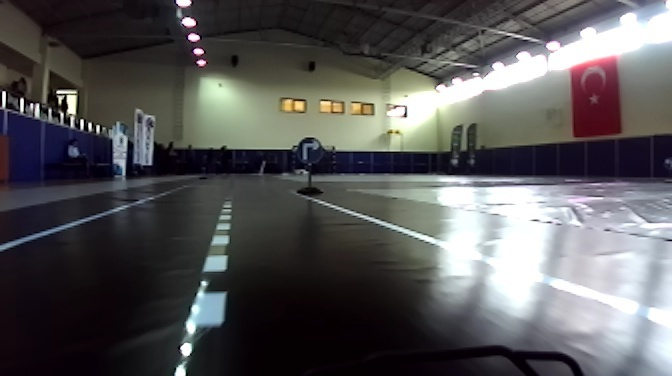saga_donus: (294, 138, 322, 166)
